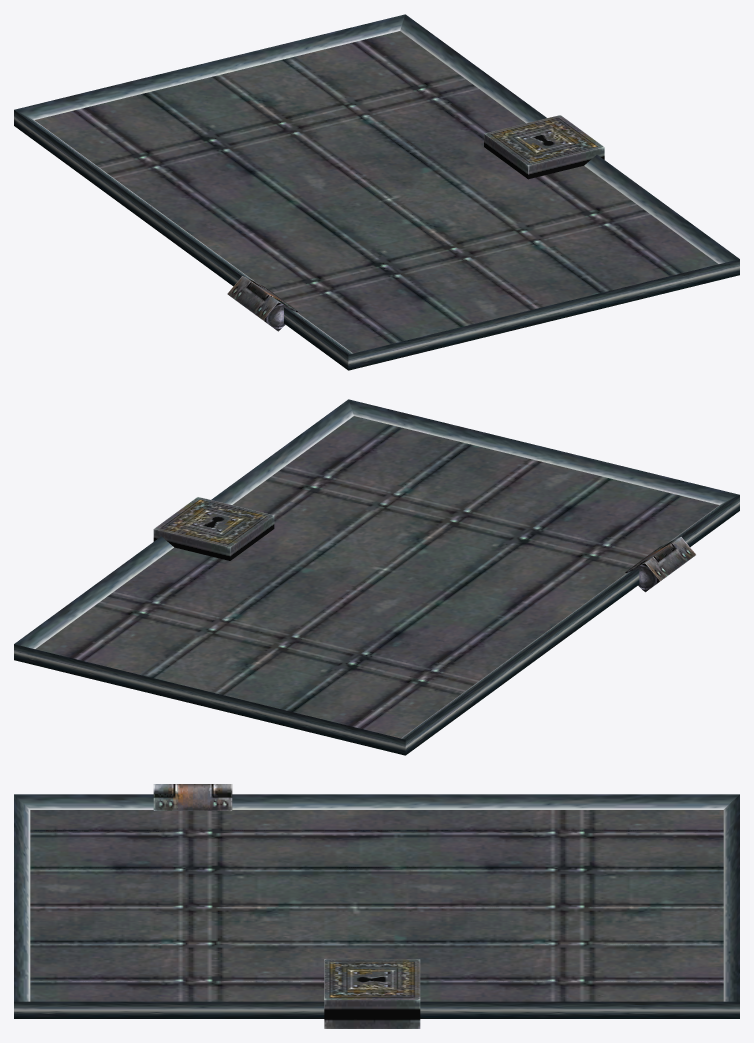
3 renders of one model, top to bottom at view 1: azimuth 30°, elevation 25°; view 2: azimuth 150°, elevation 25°; view 3: azimuth 270°, elevation 25°, orthographic. The views are drawn at different scales.
Visible parts, largest first — view 1: d_grid3-col; view 2: d_grid3-col; view 3: d_grid3-col.
Boxes of the visible parts, x1,y1,x2,y2 form: d_grid3-col: (14,14,739,370); d_grid3-col: (14,399,739,755); d_grid3-col: (14,784,739,1028).
Bounding box in the file's own units: 1.65 × 0.1097 × 2.27.
3 materials, 3 textured.
